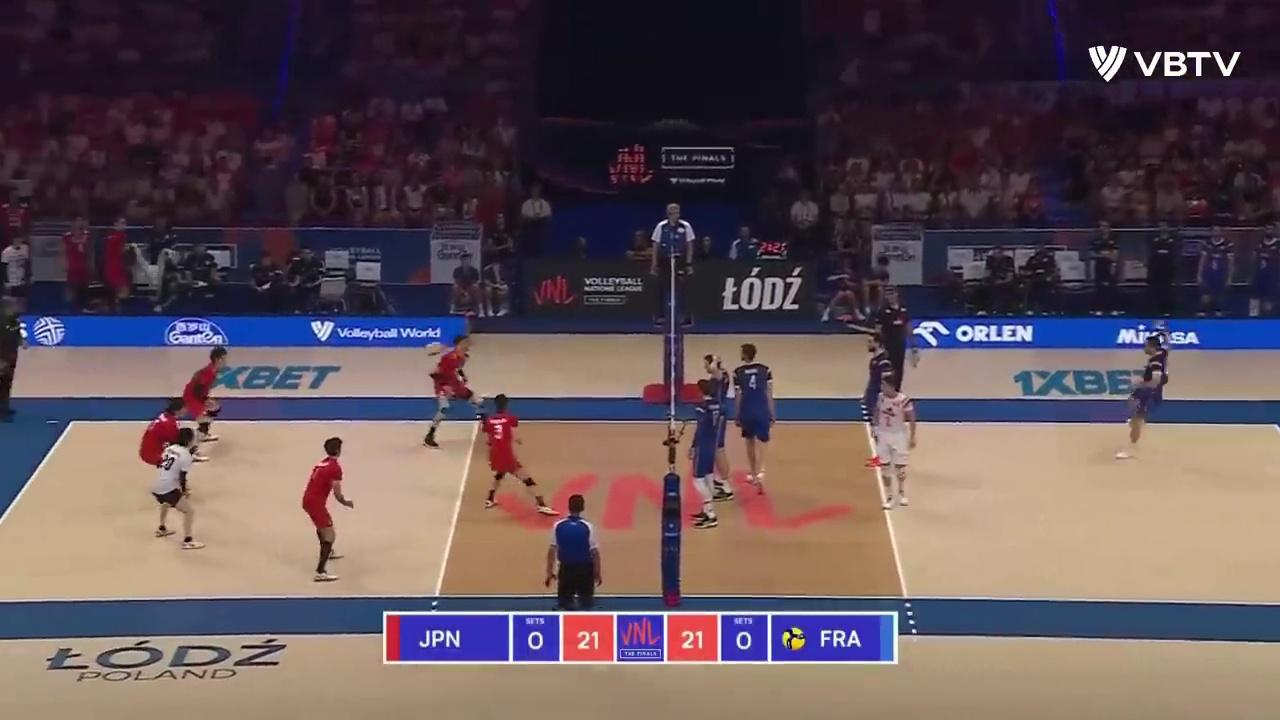ball: (425, 343, 443, 358)
